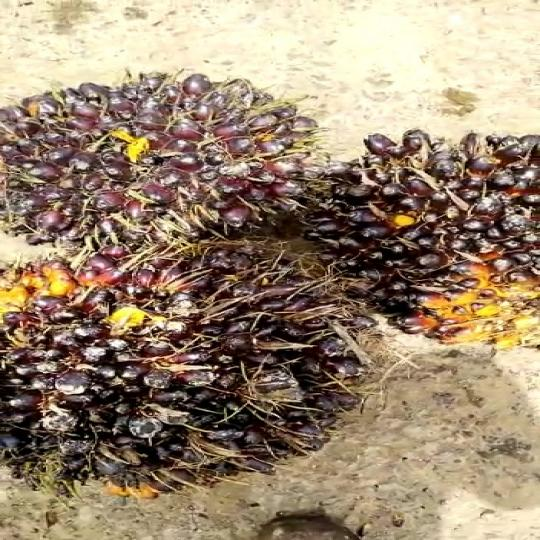mentah: (0, 244, 408, 501), (0, 64, 324, 274), (327, 125, 540, 356)
